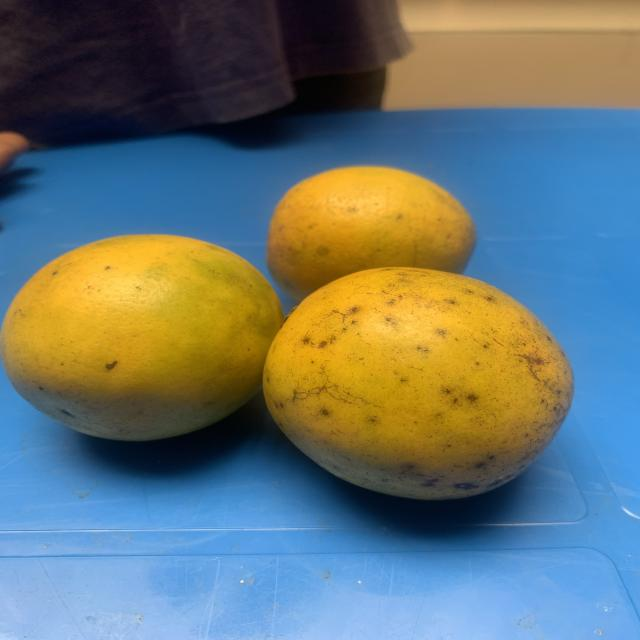Ripe orange: (254, 273, 567, 502), (0, 222, 269, 435), (262, 162, 500, 290)
